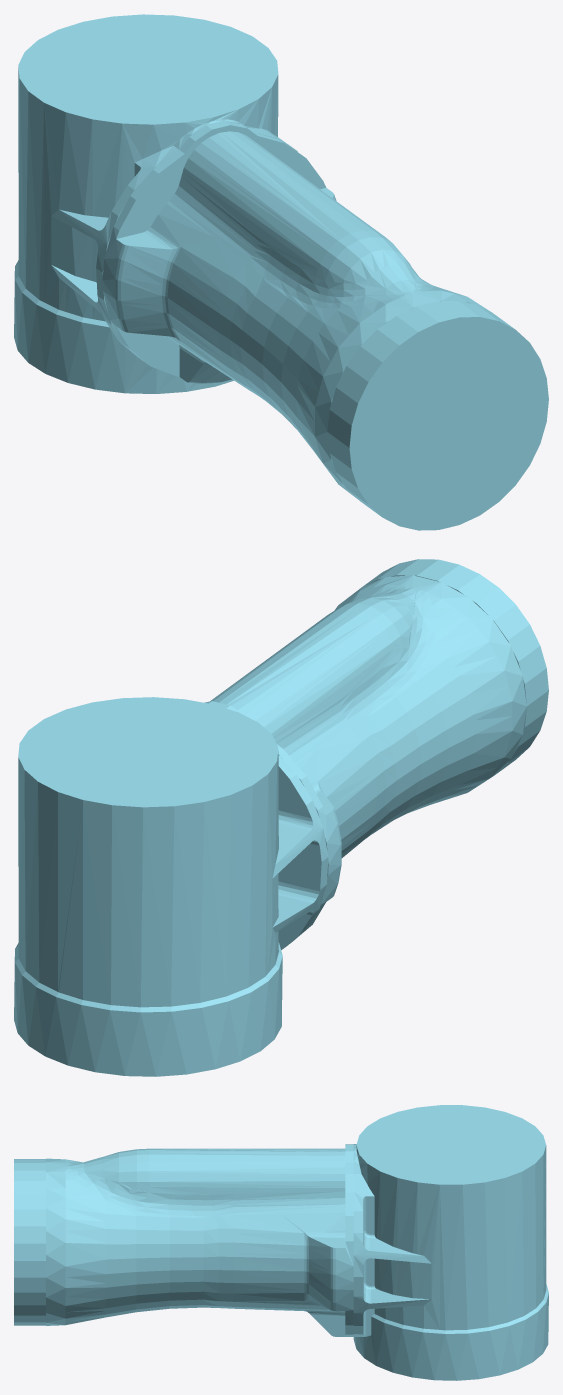
The picture shows the model from 3 angles, top to bottom: view 1: azimuth 30°, elevation 25°; view 2: azimuth 150°, elevation 25°; view 3: azimuth 270°, elevation 25°; orthographic projection. The views are drawn at different scales.
Visible parts, largest first — view 1: link2; view 2: link2; view 3: link2.
Part boxes in pixels (<box>): link2: <box>14,14,548,530</box>; link2: <box>14,559,548,1076</box>; link2: <box>14,1105,548,1380</box>.
Size of the model in its own units: 0.1398 by 0.154 by 0.3835.
